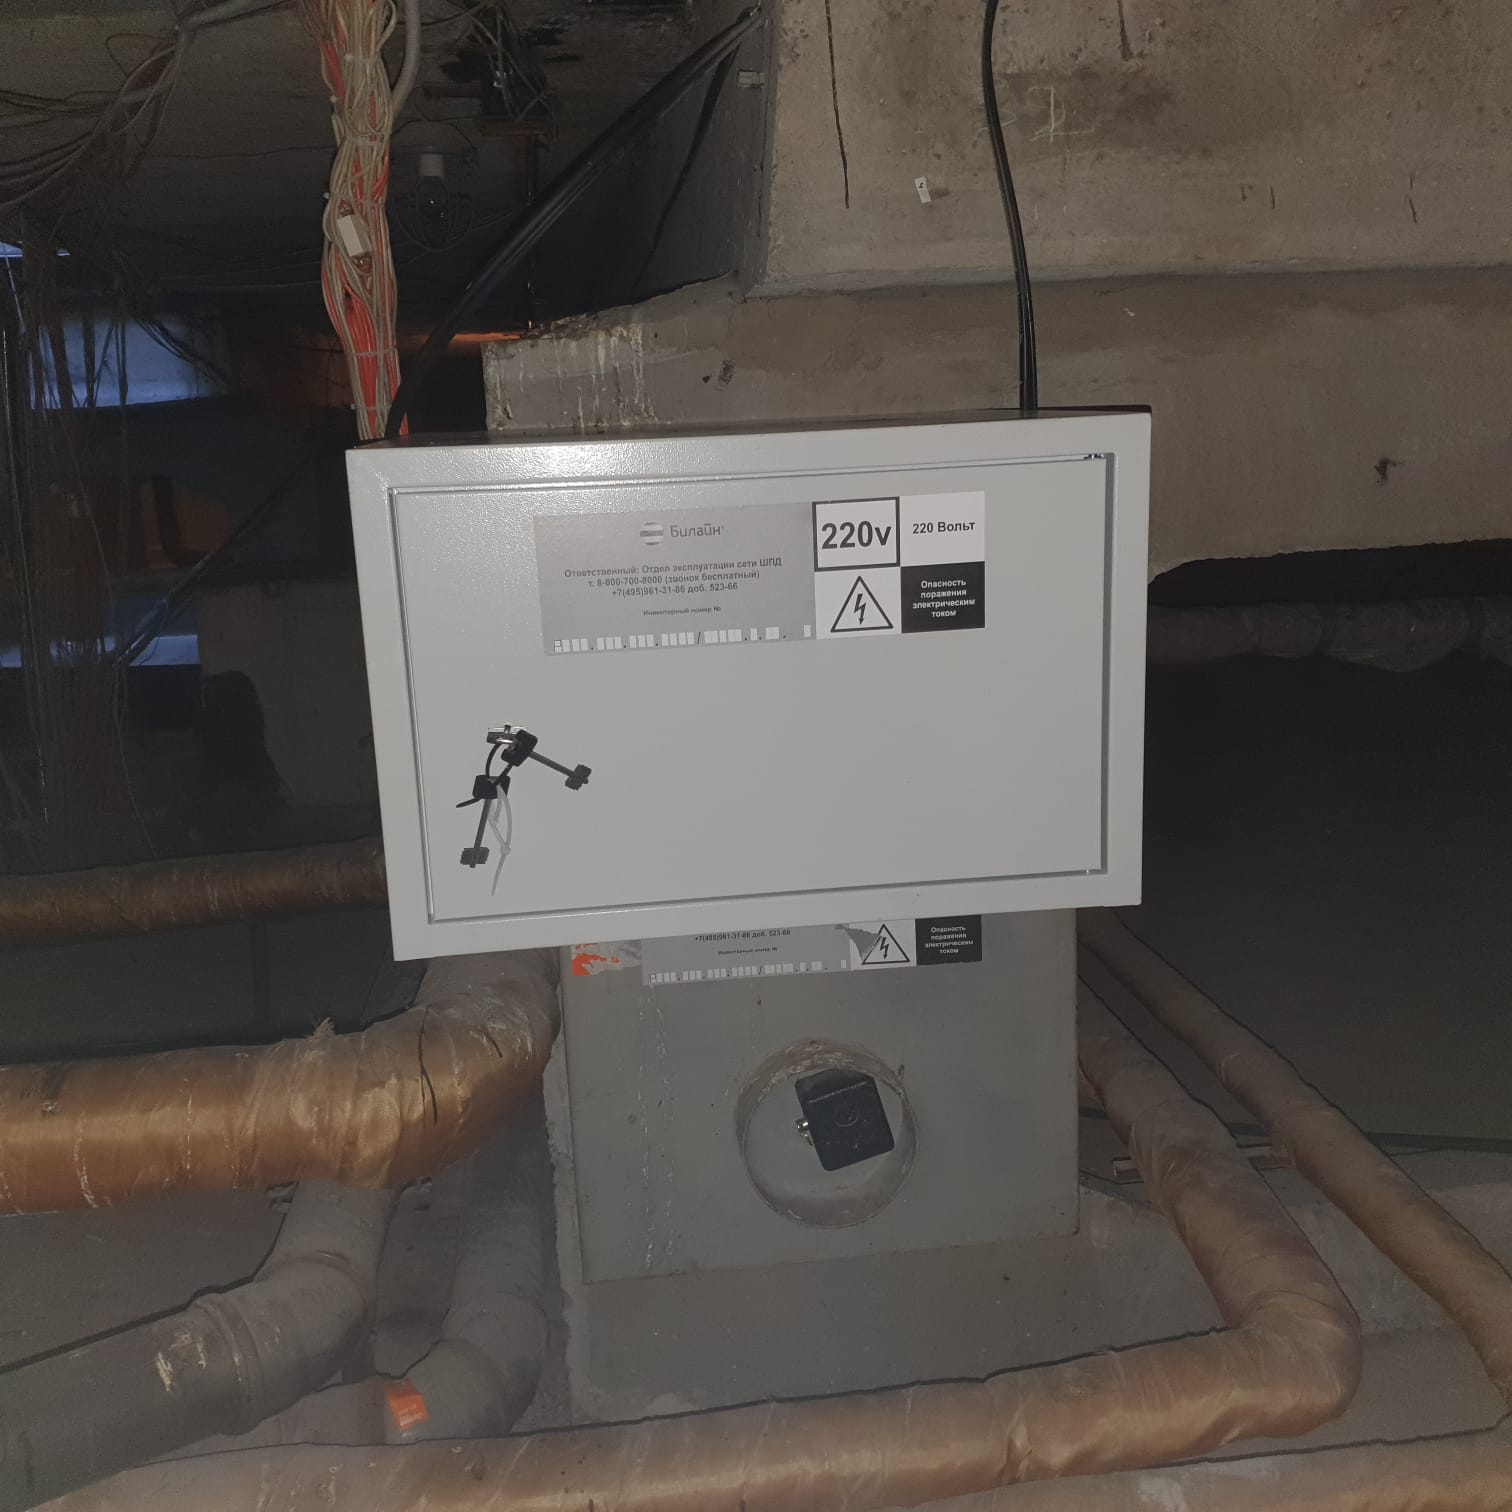shta-3: (554, 914, 1080, 1128)
shta-7m: (341, 408, 1158, 971)
